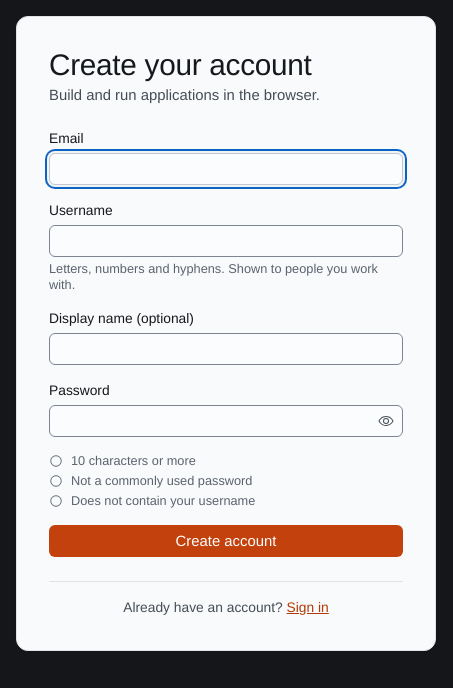
Test case: RegisterPage › shows a server conflict against the field that caused it
Type "ada@example.test" into the field labelled "Email".
click(226, 169); type("ada@example.test")  # box [50,154,402,184]
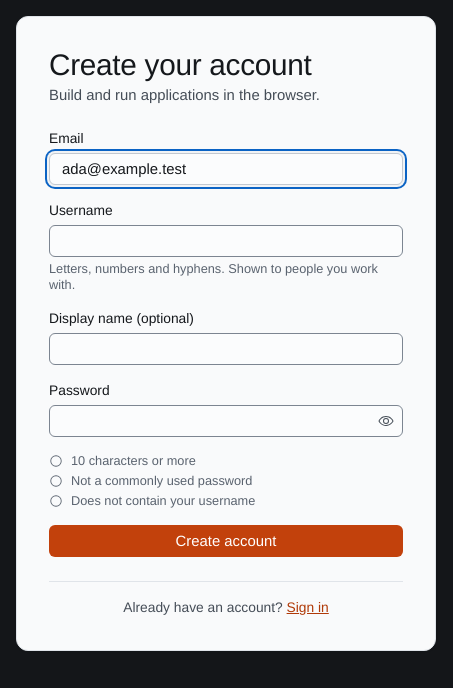
Type "ada-lovelace" into the field labelled "Username".
click(226, 241); type("ada-lovelace")  # box [50,226,402,256]
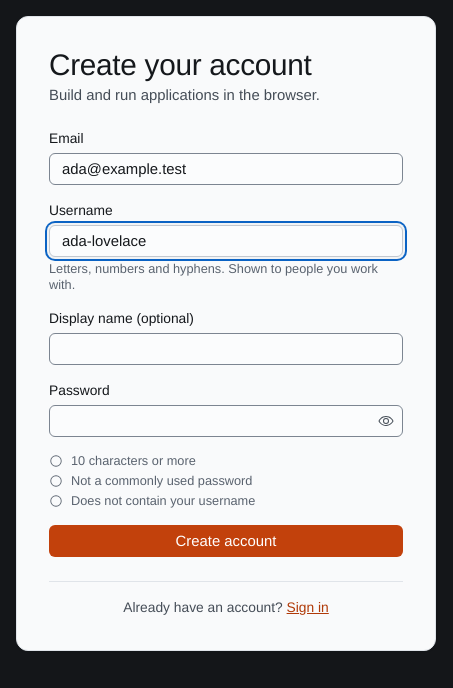
Type "analytical-engine-1843" into the password field labelled "Password".
click(212, 421); type("analytical-engine-1843")  # box [50,406,374,436]
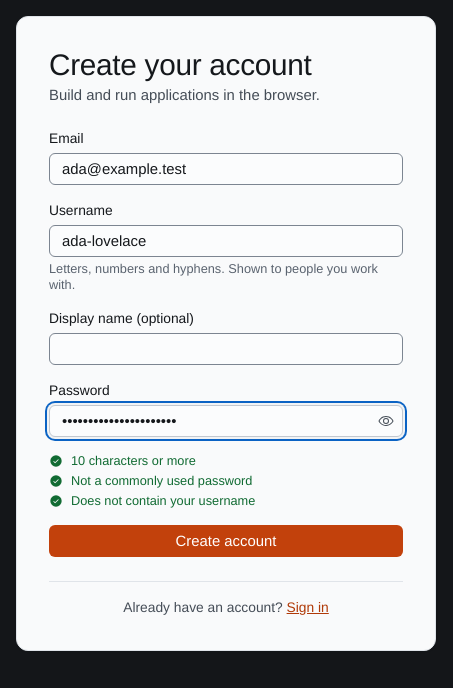
Click the button "Create account".
click(226, 541)  # box [49,525,403,557]
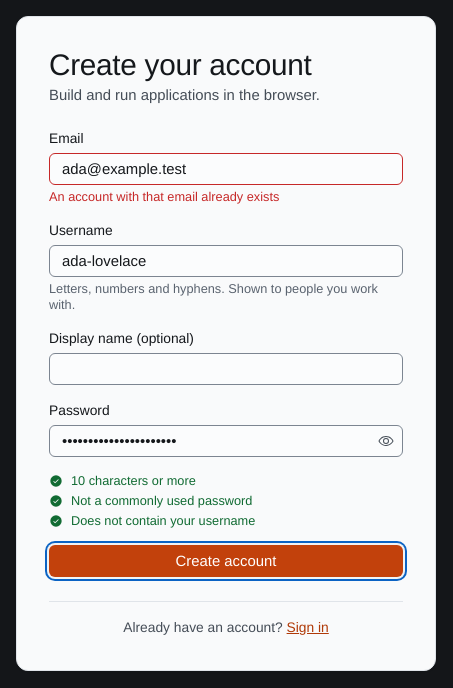
Now the text "An account with that email already exists" is shown, box [49,189,279,205]
